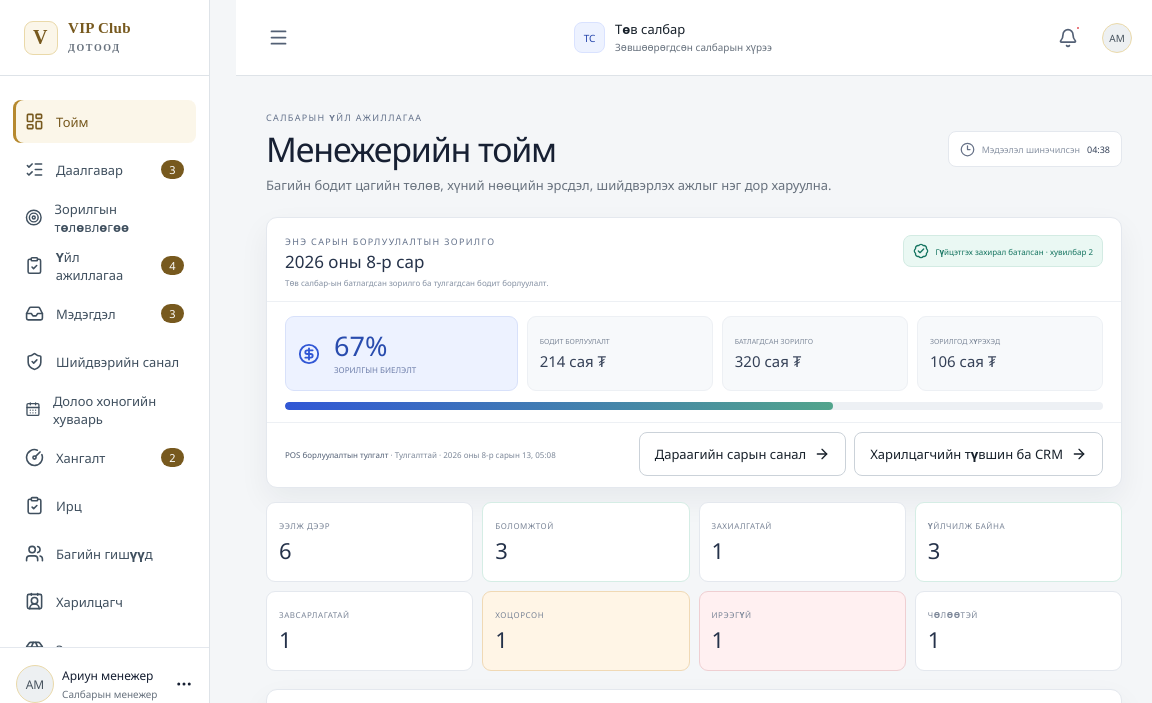
Test: WeeklySchedulePage › submits the manager monthly goal proposal for CEO review without activating it
The image size is (1152, 703).
Step 1. Click the link "Зорилгын төлөвлөгөө" → point(77, 218), box x1=25 y1=200 x2=129 y2=236
(page scrolled)
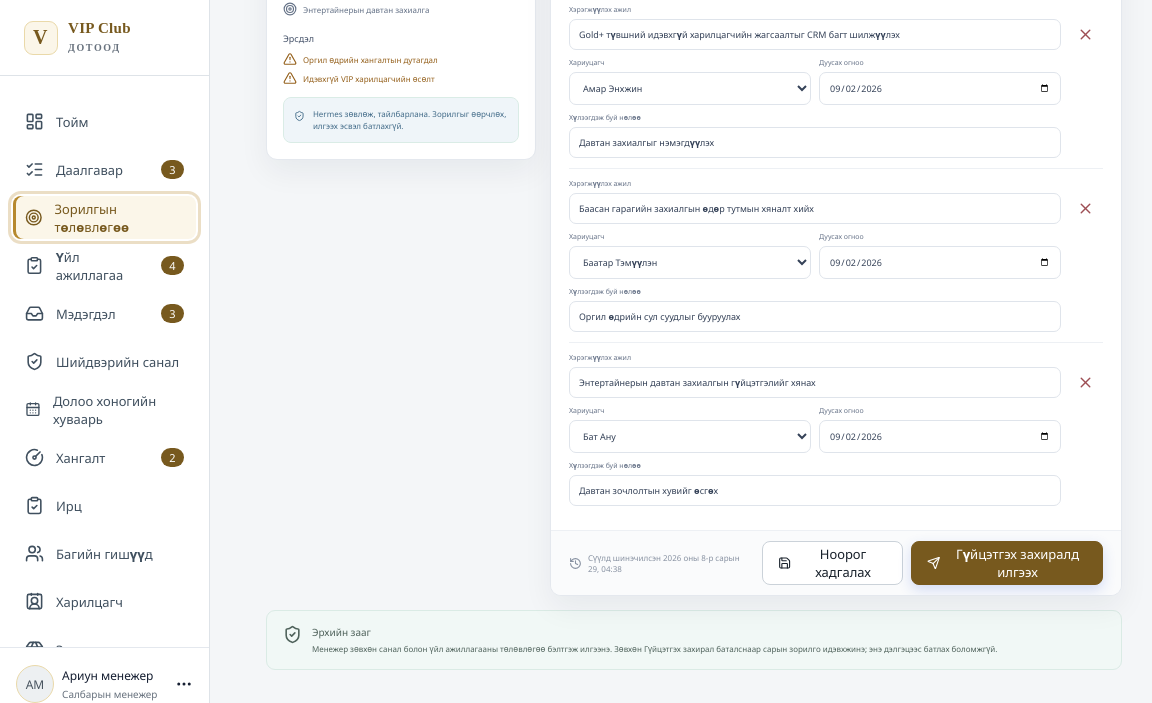
Expected: the text "Зөвхөн Гүйцэтгэх захирал баталснаар сарын зорилго идэвхжинэ" is shown, x1=312 y1=643 x2=998 y2=654
Step 2. Click the button "Гүйцэтгэх захиралд илгээх" → point(1007, 563), box x1=911 y1=541 x2=1103 y2=585
(page scrolled)
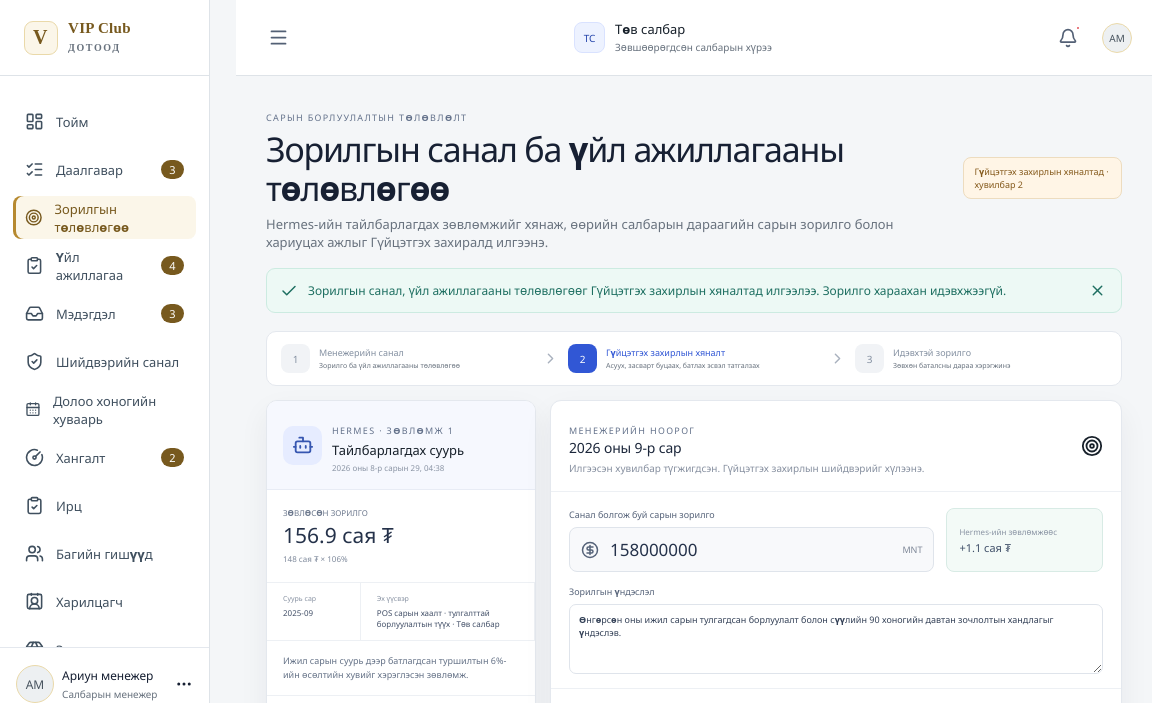
Expected: the message reads "Зорилгын санал, үйл ажиллагааны төлөвлөгөөг Гүйцэтгэх захирлын хяналтад илгээлээ", x1=308 y1=282 x2=1006 y2=299
Expected: the text "Гүйцэтгэх захирлын хяналтад · хувилбар 2" is shown, x1=964 y1=157 x2=1122 y2=199
Expected: the button "Гүйцэтгэх захиралд илгээх" is gone
